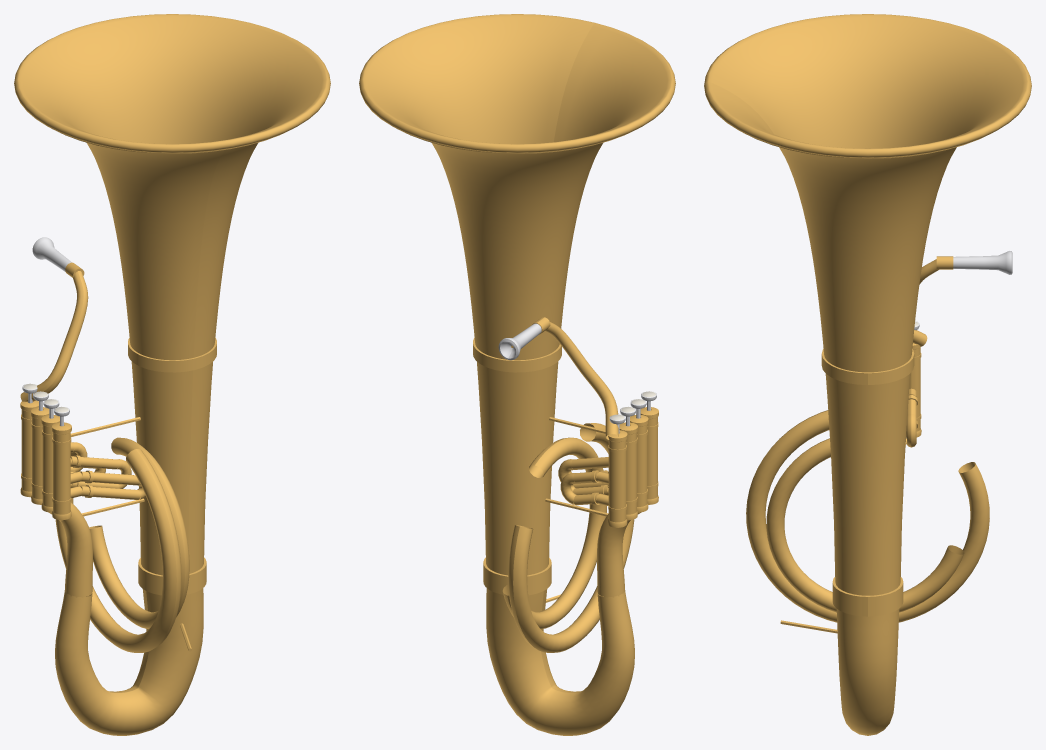
The model's file is tuba.glb.
The picture shows the model from 3 angles, left to right: view 1: azimuth 30°, elevation 25°; view 2: azimuth 150°, elevation 25°; view 3: azimuth 270°, elevation 25°; orthographic projection. The views are drawn at different scales.
Visible parts, largest first — view 1: tuba_brass, tuba_silver; view 2: tuba_brass, tuba_silver; view 3: tuba_brass, tuba_silver.
Part boxes in pixels (x1,y1,x2,y2): tuba_brass: (14,14,330,735); tuba_silver: (22,237,71,426); tuba_brass: (359,14,675,735); tuba_silver: (498,323,656,433); tuba_brass: (704,14,1031,735); tuba_silver: (914,251,1012,330).
Bounding box in the file's own units: 0.4532 × 1.02 × 0.4532.
